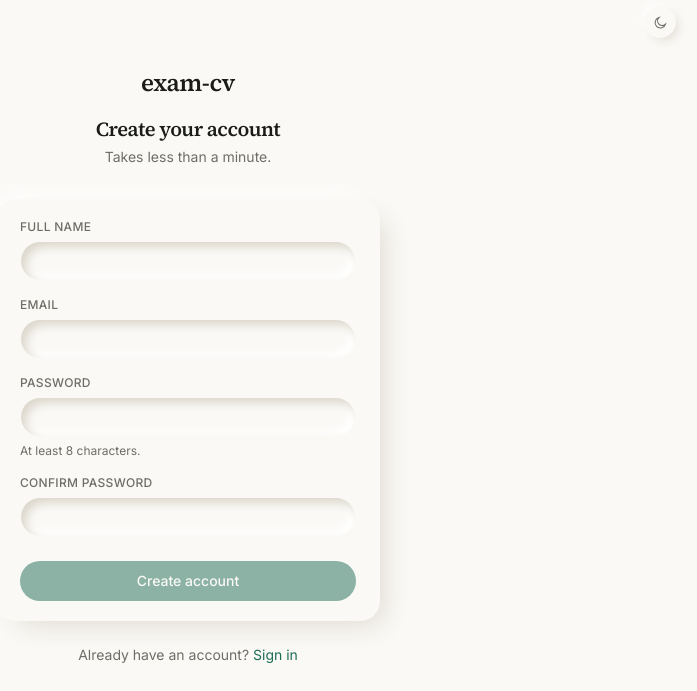
Test case: Register › rejects a mismatched confirmation password
Type "Ada Lovelace" into the field labelled "Full name".
click(188, 261); type("Ada Lovelace")  # box [20,241,356,281]
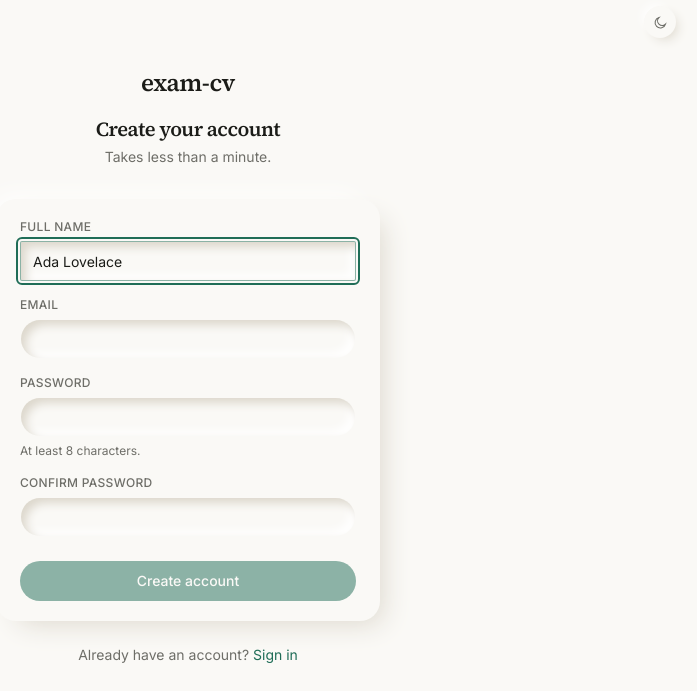
Type "ada@example.com" into the field labelled "Email".
click(188, 339); type("ada@example.com")  # box [20,319,356,359]
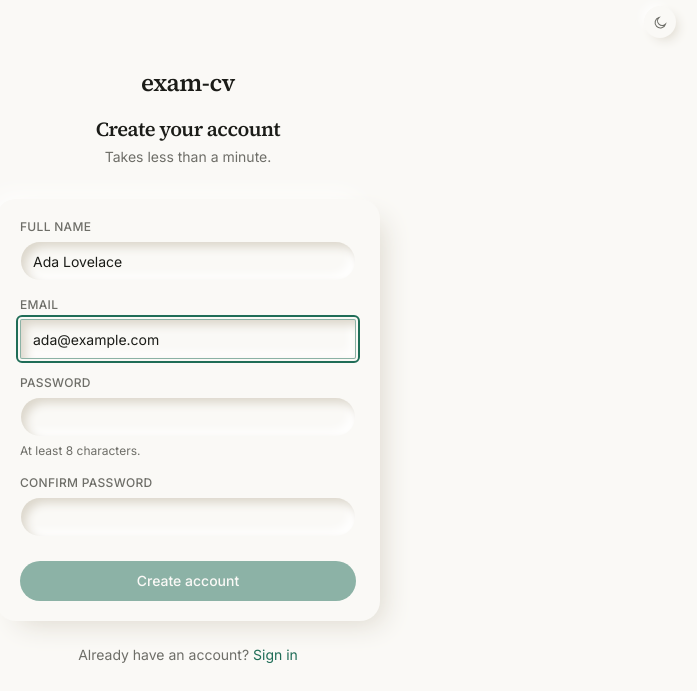
Type "correct-horse" into the password field labelled "Password".
click(188, 417); type("correct-horse")  # box [20,397,356,437]
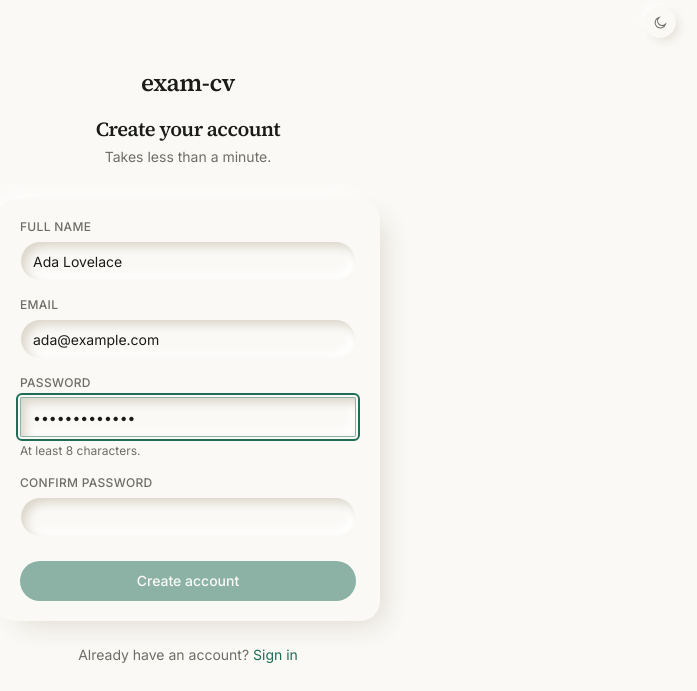
Type "something-else" into the password field labelled "Confirm password".
click(188, 517); type("something-else")  # box [20,497,356,537]
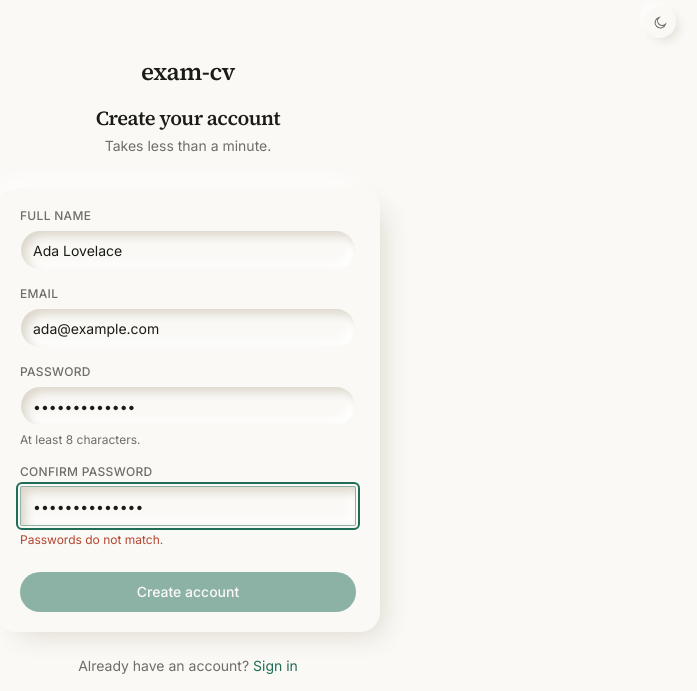
Expected: the button "Create account" is disabled, [20,572,356,612]
Now the text "Passwords do not match." is shown, box [20,532,163,547]
